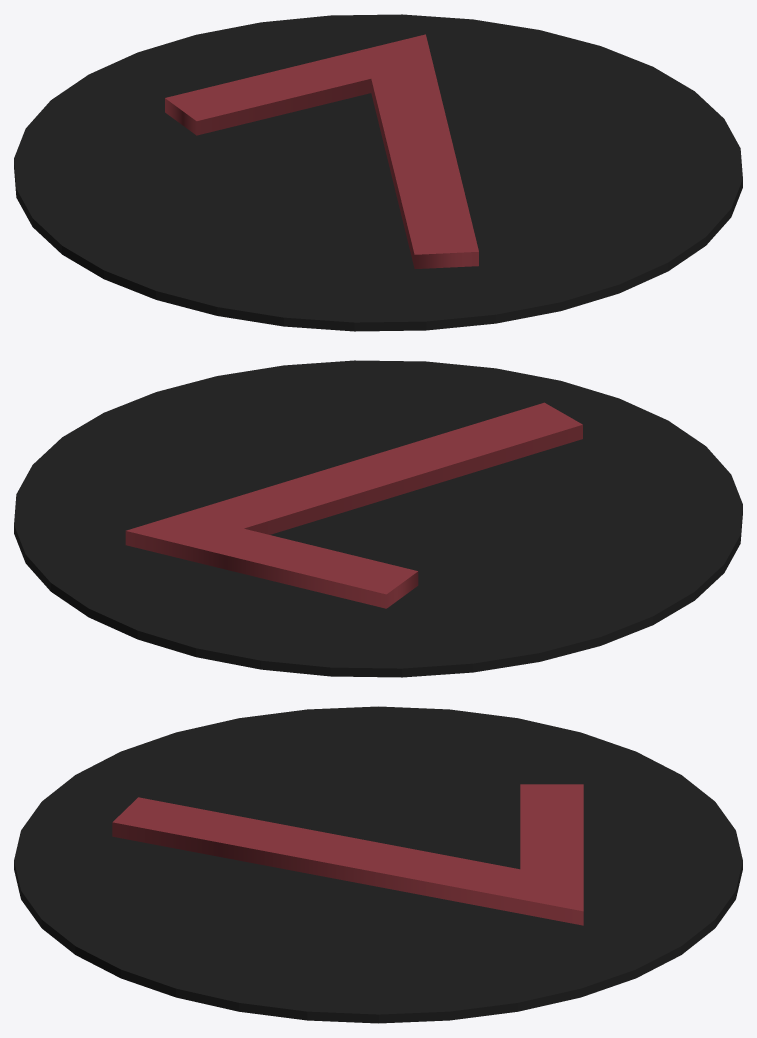
The model's file is seven-cirlce.fbx.
3 renders of one model, top to bottom at view 1: azimuth 30°, elevation 25°; view 2: azimuth 150°, elevation 25°; view 3: azimuth 270°, elevation 25°, orthographic.
Parts seen in each view (by area): view 1: Cylinder, Text; view 2: Cylinder, Text; view 3: Cylinder, Text.
Boxes of the visible parts, x1,y1,x2,y2 form: Cylinder: [14, 14, 742, 331]; Text: [165, 34, 478, 268]; Cylinder: [14, 360, 742, 677]; Text: [125, 402, 582, 608]; Cylinder: [14, 706, 742, 1023]; Text: [112, 784, 583, 925].
Bounding box in the file's own units: 141 × 6.67 × 141.
